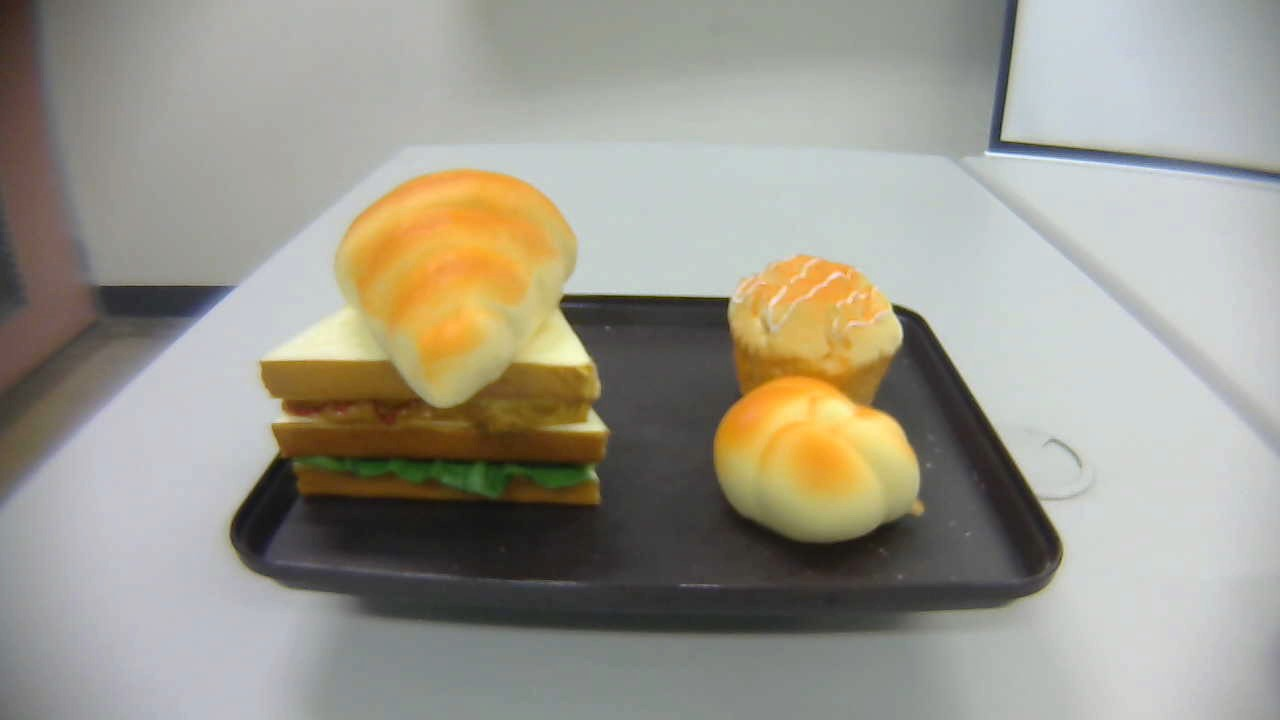croissant: (333, 167, 581, 413)
cupcake: (726, 251, 904, 420)
sandwich: (259, 239, 612, 507)
twist bread: (711, 377, 926, 544)
